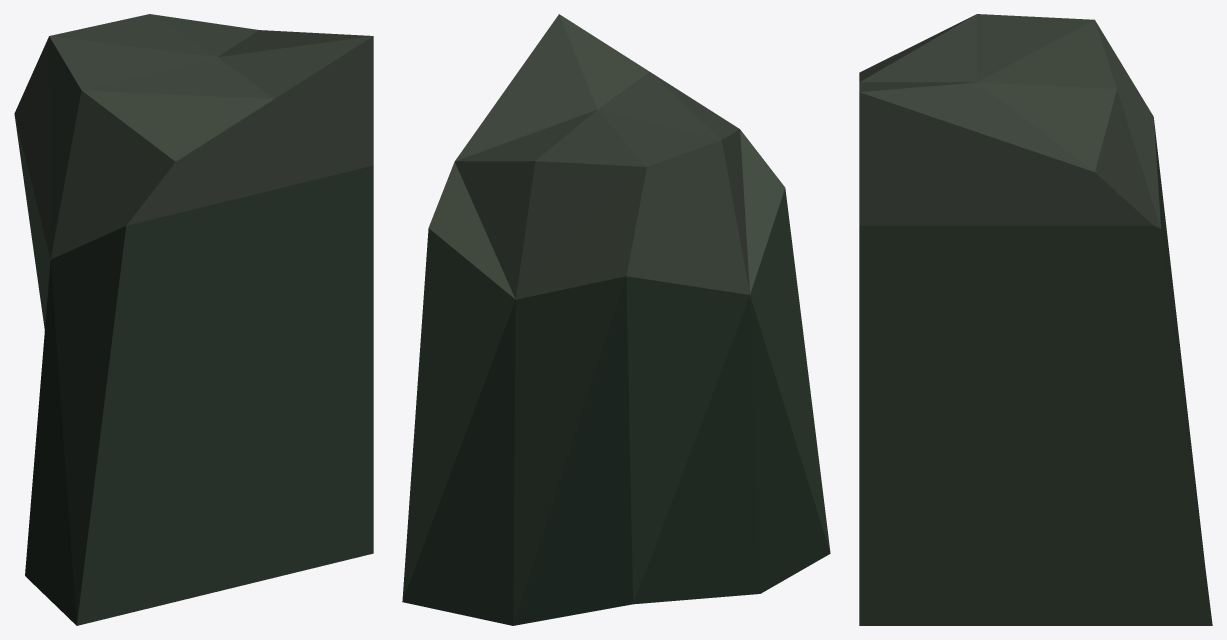
File: tileStoneCoastCorner1.fbx
The picture shows the model from 3 angles, left to right: view 1: azimuth 30°, elevation 25°; view 2: azimuth 150°, elevation 25°; view 3: azimuth 270°, elevation 25°; orthographic projection. The views are drawn at different scales.
Visible parts, largest first — view 1: tileStoneCoastCorner1; view 2: tileStoneCoastCorner1; view 3: tileStoneCoastCorner1.
Boxes of the visible parts, x1,y1,x2,y2 form: tileStoneCoastCorner1: (14, 14, 373, 625); tileStoneCoastCorner1: (402, 14, 830, 625); tileStoneCoastCorner1: (859, 14, 1212, 625).
Bounding box in the file's own units: 300 × 500 × 300.
1 material, 1 textured.
